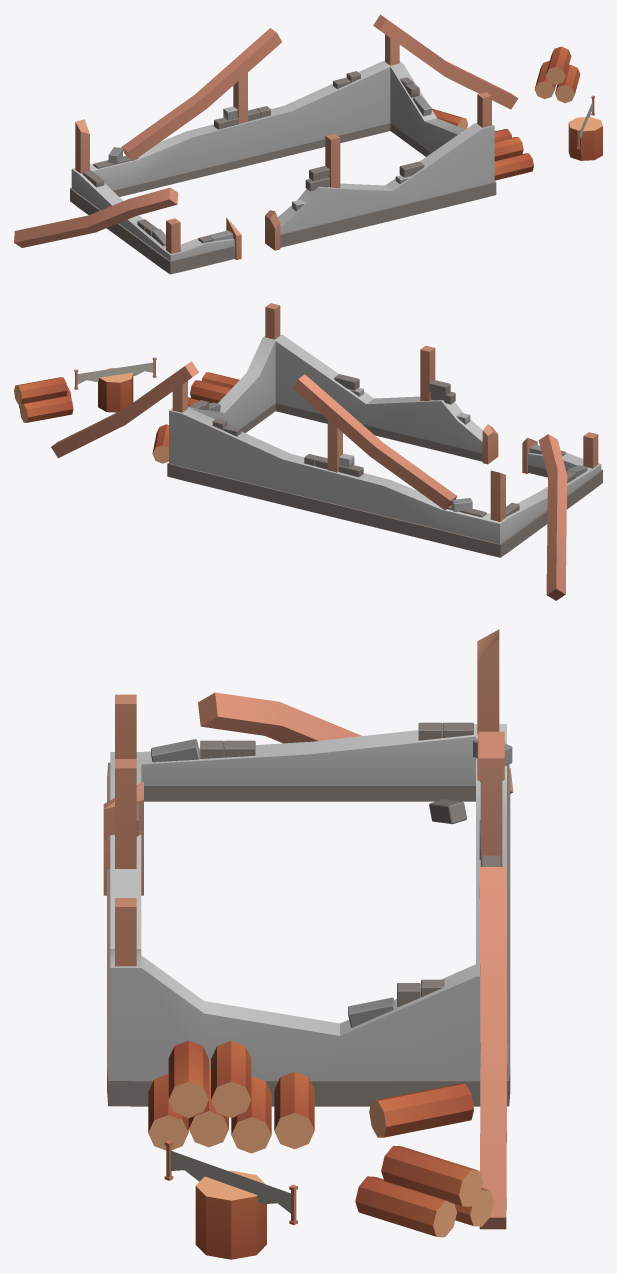
Rendered from [OBJ]Ruina_Lenhador.fbx.
3 views of the same model, one above another, from view 1: azimuth 30°, elevation 25°; view 2: azimuth 150°, elevation 25°; view 3: azimuth 270°, elevation 25° (orthographic). The views are drawn at different scales.
Visible parts, largest first — view 1: [OBJ]Ruina_Lenhador; view 2: [OBJ]Ruina_Lenhador; view 3: [OBJ]Ruina_Lenhador.
Part boxes in pixels (x1=…): [OBJ]Ruina_Lenhador: x1=14, y1=14, x2=602, y2=274; [OBJ]Ruina_Lenhador: x1=14, y1=303, x2=602, y2=600; [OBJ]Ruina_Lenhador: x1=103, y1=629, x2=513, y2=1259.
Bounding box in the file's own units: 642 × 175 × 207.
